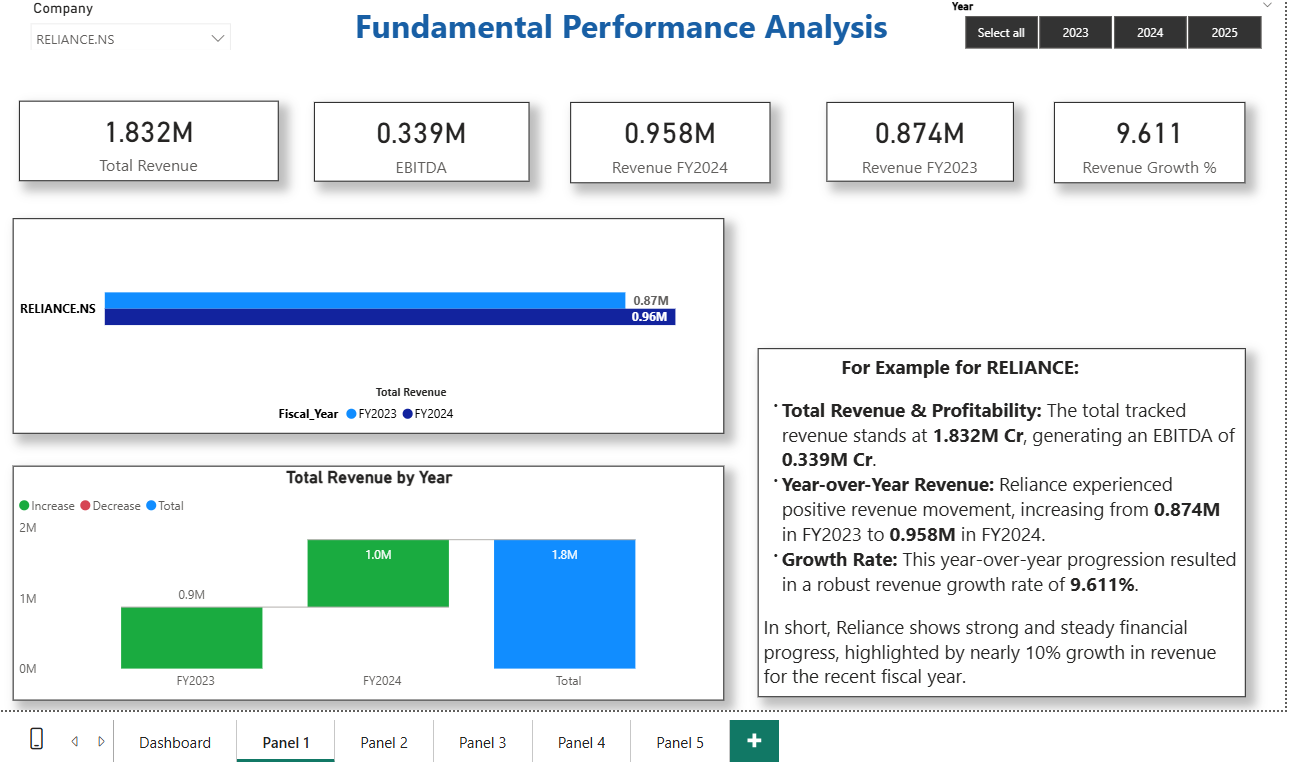

This screenshot's page, from the dashboard's own definition file:
{"tool":"powerbi","page":{"name":"Panel 1","canvas":[1280,720],"ordinal":1},"visuals":[{"type":"card","fields":{"Values":["Sum(Fact_Fundamentals.Total_Revenue_Cr)"]},"box":[20,113.3,258.3,80],"z":0},{"type":"card","fields":{"Values":["Sum(Fact_Fundamentals.EBITDA_Cr)"]},"box":[312.9,113.9,214.1,79.6],"z":1000},{"type":"card","fields":{"Values":["Fact_Fundamentals.Revenue FY2024"]},"box":[568.1,113.9,199,81],"z":2000},{"type":"card","fields":{"Values":["Fact_Fundamentals.Revenue FY2023"]},"box":[823.3,113.9,186.6,79.6],"z":3000},{"type":"card","fields":{"Values":["Fact_Fundamentals.Revenue Growth %"]},"box":[1049.7,113.9,190.7,81],"z":4000},{"type":"textbox","box":[754.7,359.5,485.8,347.2],"z":5000},{"type":"textbox","box":[301.9,11,634,57.6],"z":6000},{"type":"slicer","fields":{"Values":["Dim_Company.Ticker"]},"box":[20.6,6.9,219.6,54.9],"z":7000},{"type":"clusteredBarChart","fields":{"Category":["Dim_Company.Ticker"],"Y":["Sum(Fact_Fundamentals.Total_Revenue_Cr)"],"Series":["Fact_Fundamentals.Fiscal_Year"]},"box":[13.7,230.5,708.1,214.1],"z":8000},{"type":"slicer","fields":{"Values":["Dim_Date.Year"]},"box":[935.9,6.9,344.4,60.4],"z":9000},{"type":"waterfallChart","title":"Total Revenue by Year","fields":{"Category":["Fact_Fundamentals.Fiscal_Year"],"Y":["Sum(Fact_Fundamentals.Total_Revenue_Cr)"]},"box":[13.7,476.2,708.1,233.3],"z":10000}]}

Visuals, with their boxes in screenshot pixels (x1, y1, x2, y2):
card - Sum(Fact_Fundamentals.Total_Revenue_Cr): 13,97,273,178
card - Sum(Fact_Fundamentals.EBITDA_Cr): 308,98,524,178
card - Fact_Fundamentals.Revenue FY2024: 565,98,766,179
card - Fact_Fundamentals.Revenue FY2023: 822,98,1010,178
card - Fact_Fundamentals.Revenue Growth %: 1050,98,1242,179
textbox: 753,345,1242,695
textbox: 297,0,936,52
slicer - Dim_Company.Ticker: 14,0,235,45
clusteredBarChart - Dim_Company.Ticker x Sum(Fact_Fundamentals.Total_Revenue_Cr): 7,215,720,431
slicer - Dim_Date.Year: 936,0,1282,51
"Total Revenue by Year" waterfallChart: 7,463,720,697
